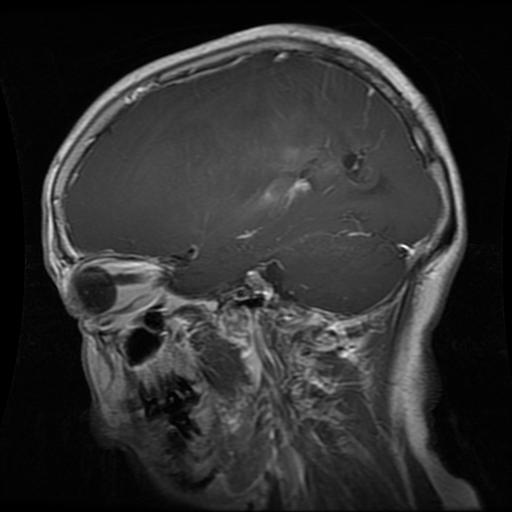Gliomia_tumour: (257, 141, 368, 213)
